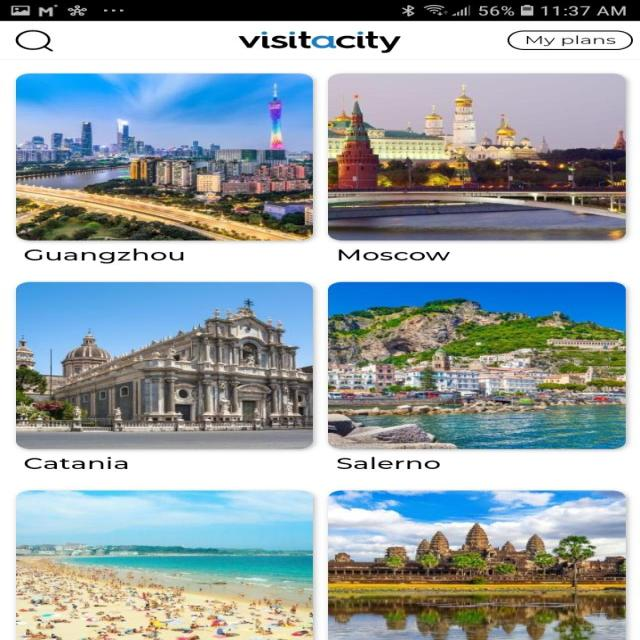Icon: (14, 30, 54, 52)
Image: (16, 281, 313, 449), (327, 282, 625, 449), (327, 73, 625, 240), (16, 73, 313, 240), (327, 490, 625, 639), (16, 490, 313, 639), (237, 31, 401, 53)
Text: (24, 248, 184, 264), (24, 456, 128, 469), (338, 248, 450, 260), (337, 456, 440, 469)
TextButton: (506, 30, 632, 50)
